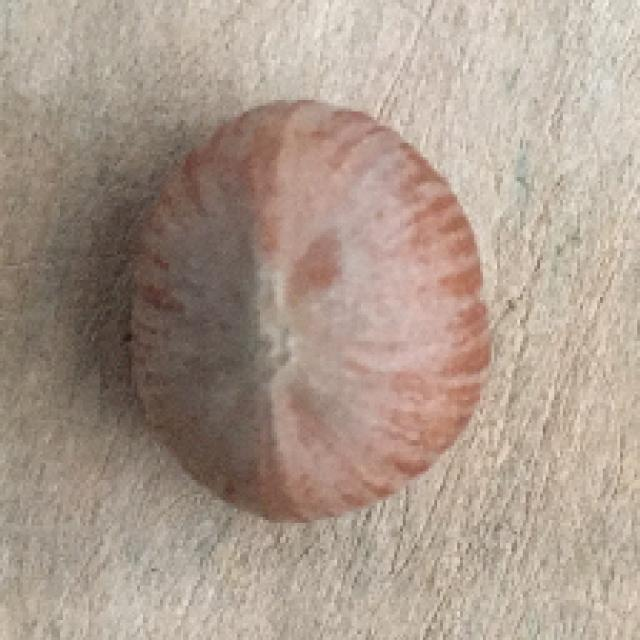qualityHazelnut: (120, 90, 491, 528)
